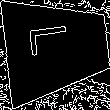L_E: (32, 30, 81, 67)
